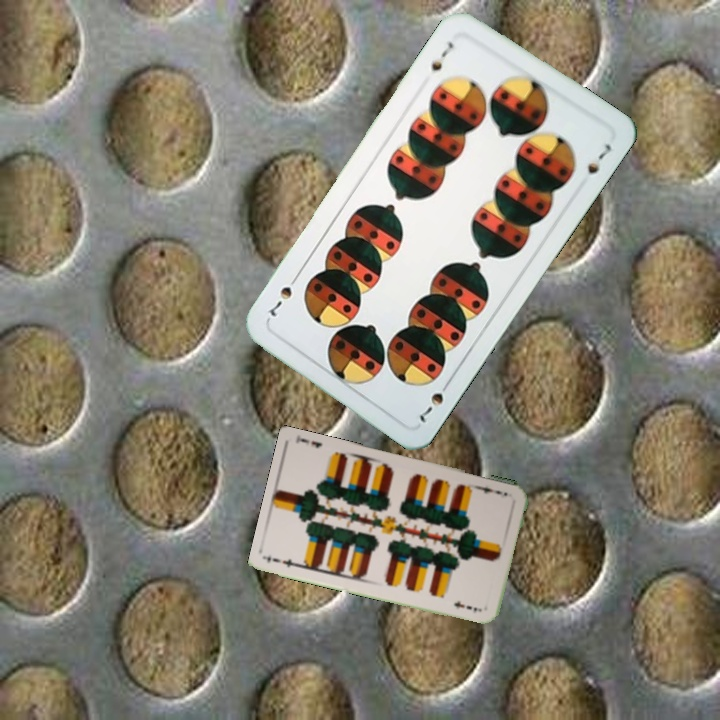E7: (474, 482, 510, 499), (268, 554, 304, 570)
S7: (415, 375, 454, 426), (427, 37, 457, 74)
